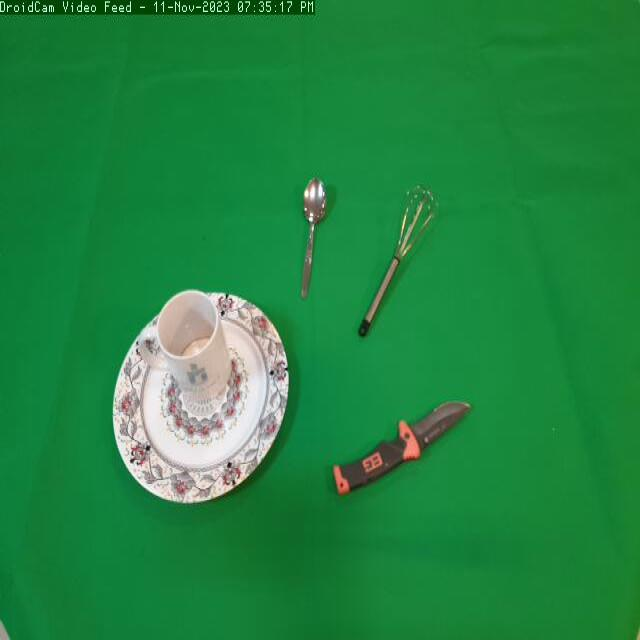cup: (138, 290, 237, 406)
knife: (326, 382, 482, 506)
plate: (105, 283, 292, 517)
spoon: (292, 173, 334, 302)
whisk: (349, 178, 447, 347)
